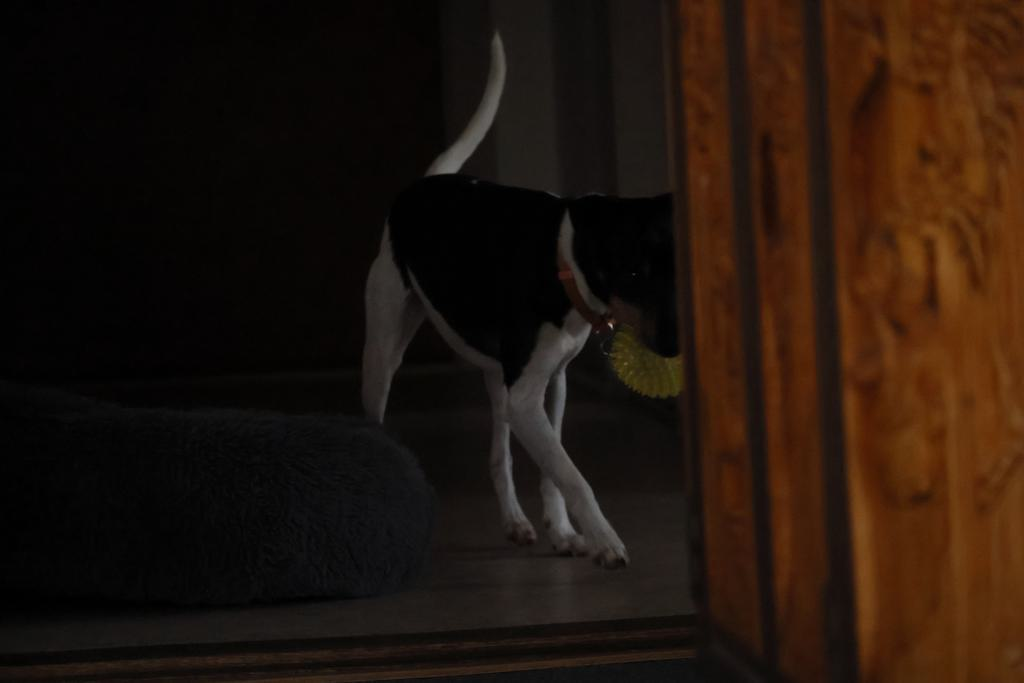Dog: (346, 20, 699, 578)
